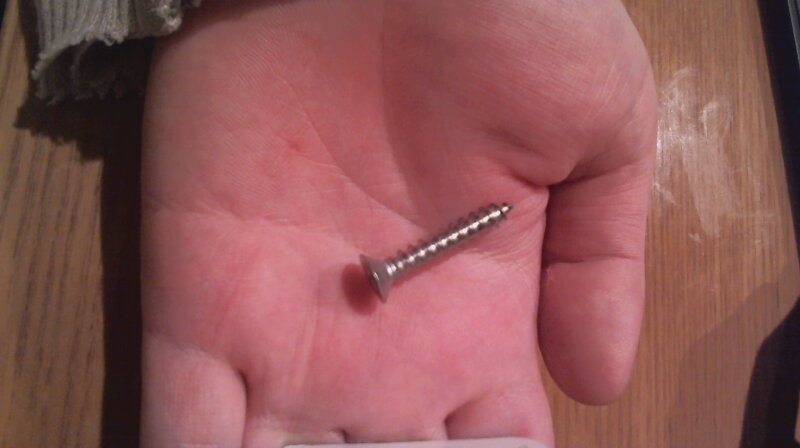S001: (356, 195, 518, 305)
